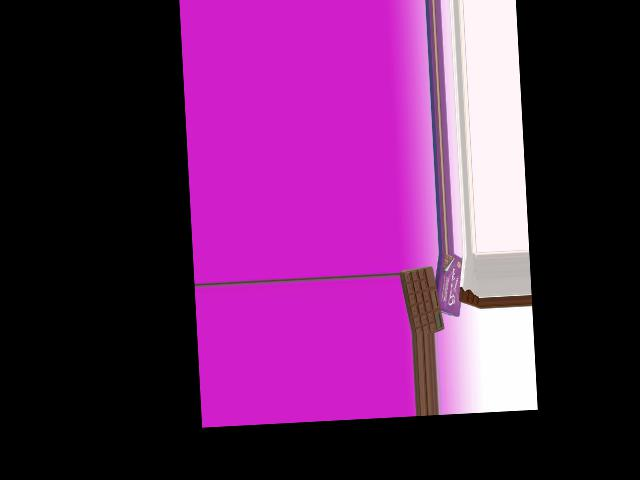chocolate: (398, 266, 445, 332)
